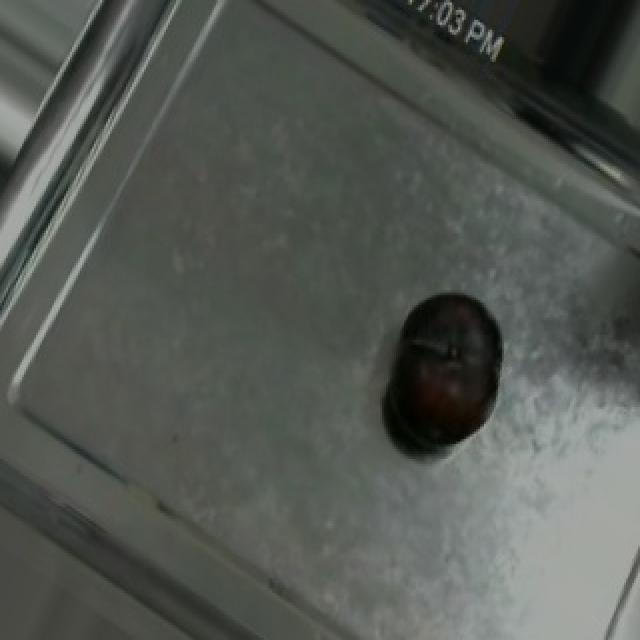Fruit: (372, 270, 526, 464)
